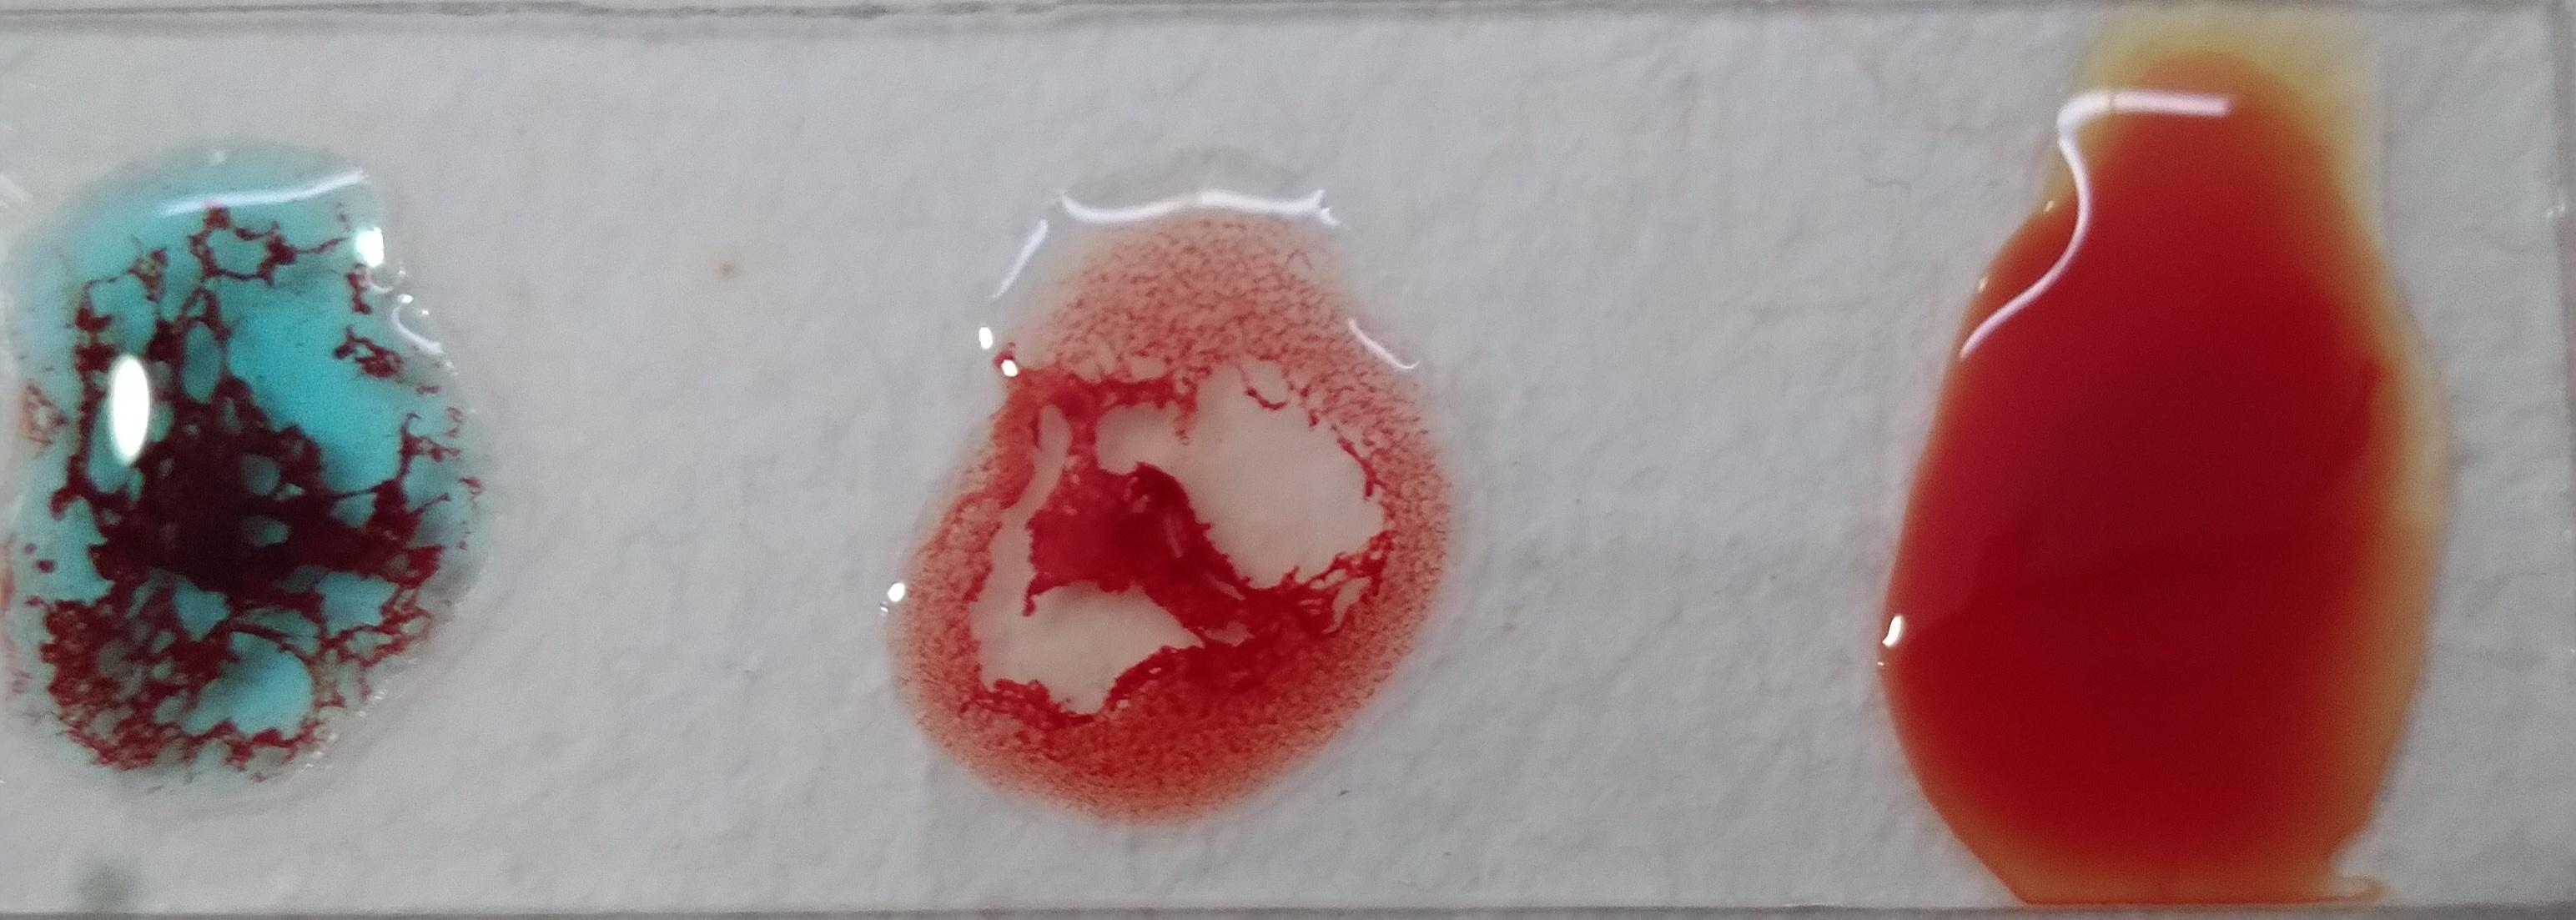A: (2088, 136, 2561, 738)
D: (1135, 108, 1656, 726)
